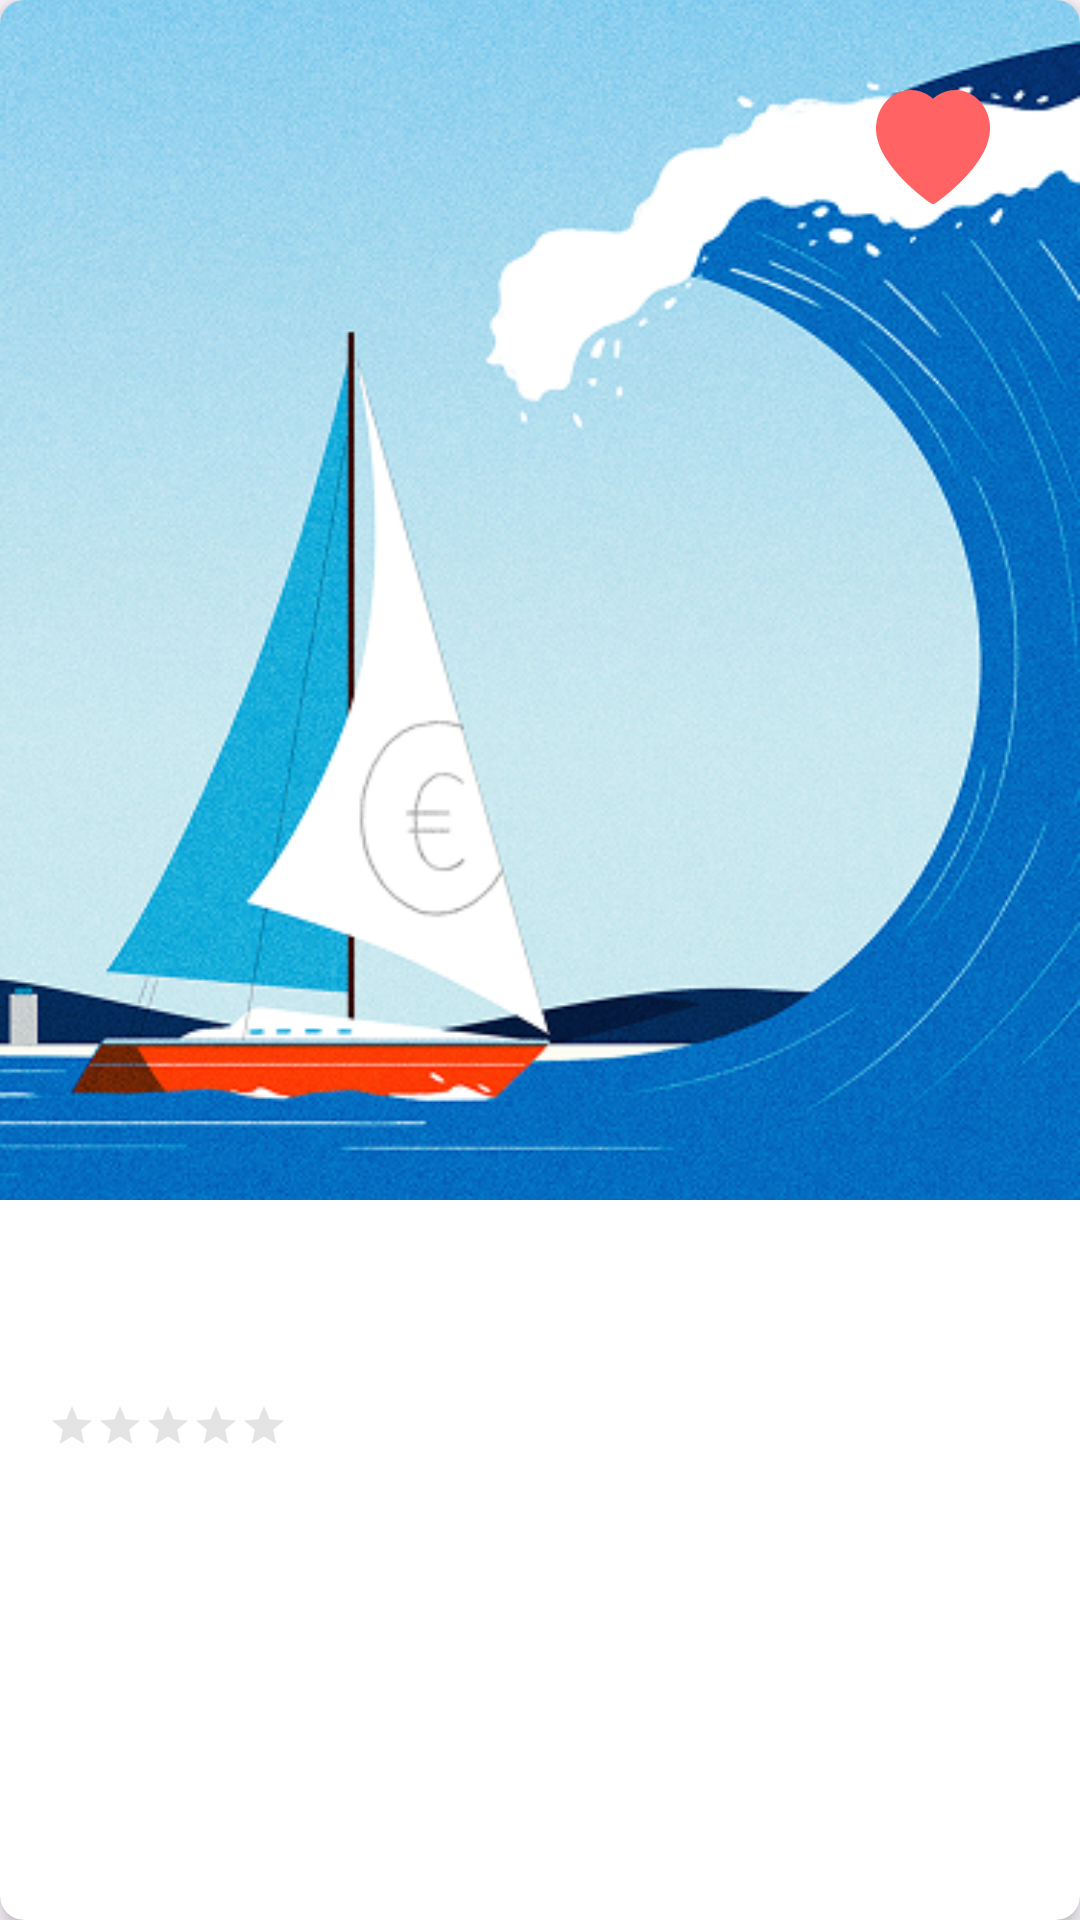

Point at icon controls on the screen. Image size 1080px×1920px, points as (x,y).
like: (933,147)
